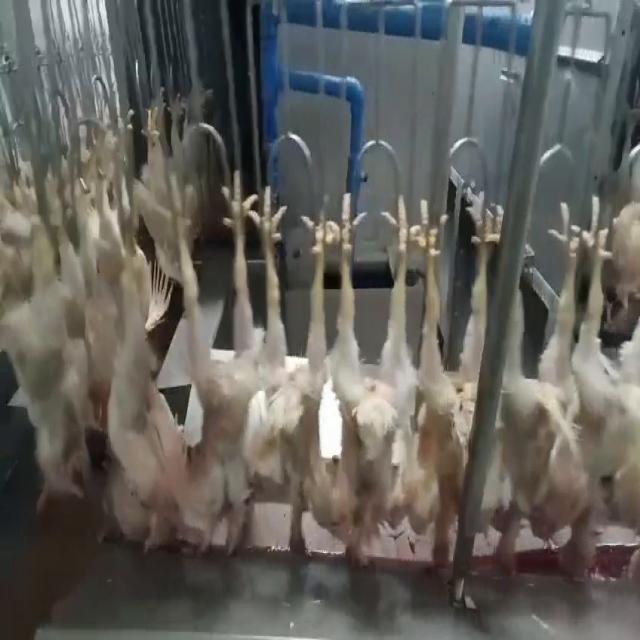chicken: (141, 167, 251, 554), (479, 201, 584, 576), (326, 190, 426, 574), (243, 182, 343, 566), (399, 179, 495, 566), (562, 193, 637, 584), (73, 160, 141, 541)
